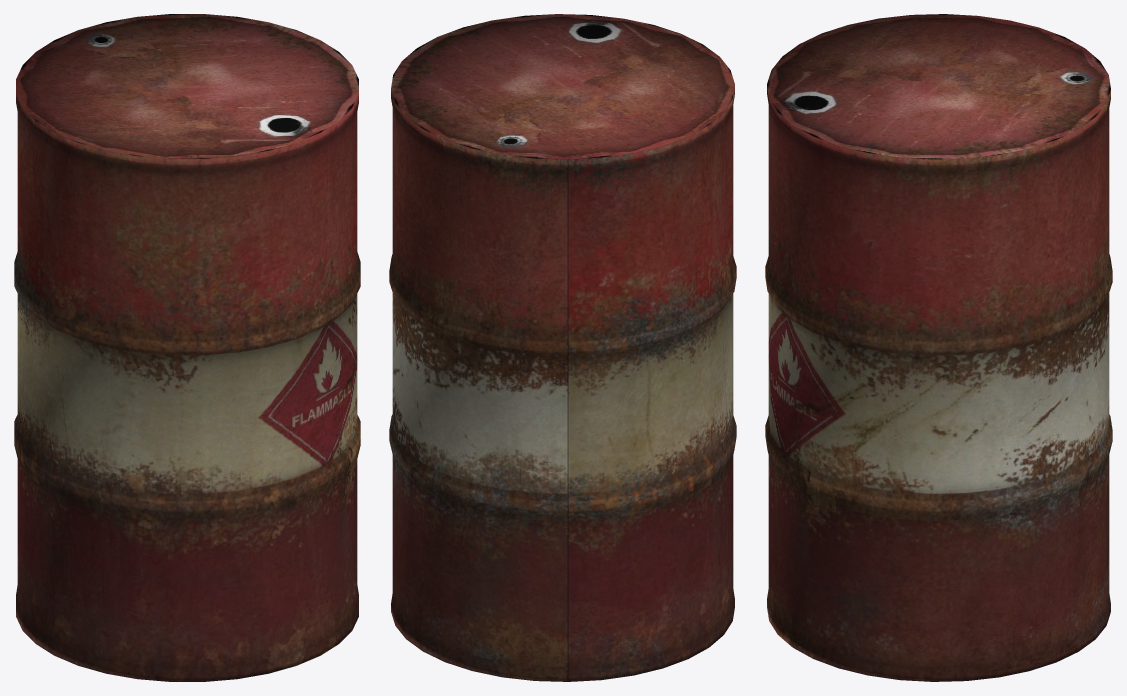
The model's file is oildrum.obj.
3 views of the same model, side by side, from view 1: azimuth 30°, elevation 25°; view 2: azimuth 150°, elevation 25°; view 3: azimuth 270°, elevation 25° (orthographic).
Parts seen in each view (by area): view 1: Oildrum-ref_Cylinder.001; view 2: Oildrum-ref_Cylinder.001; view 3: Oildrum-ref_Cylinder.001.
Part boxes in pixels (bbox=[...]): Oildrum-ref_Cylinder.001: bbox=[14, 14, 360, 681]; Oildrum-ref_Cylinder.001: bbox=[389, 14, 736, 681]; Oildrum-ref_Cylinder.001: bbox=[765, 14, 1112, 681].
Size of the model in its own units: 1.12 by 1.86 by 1.12.
